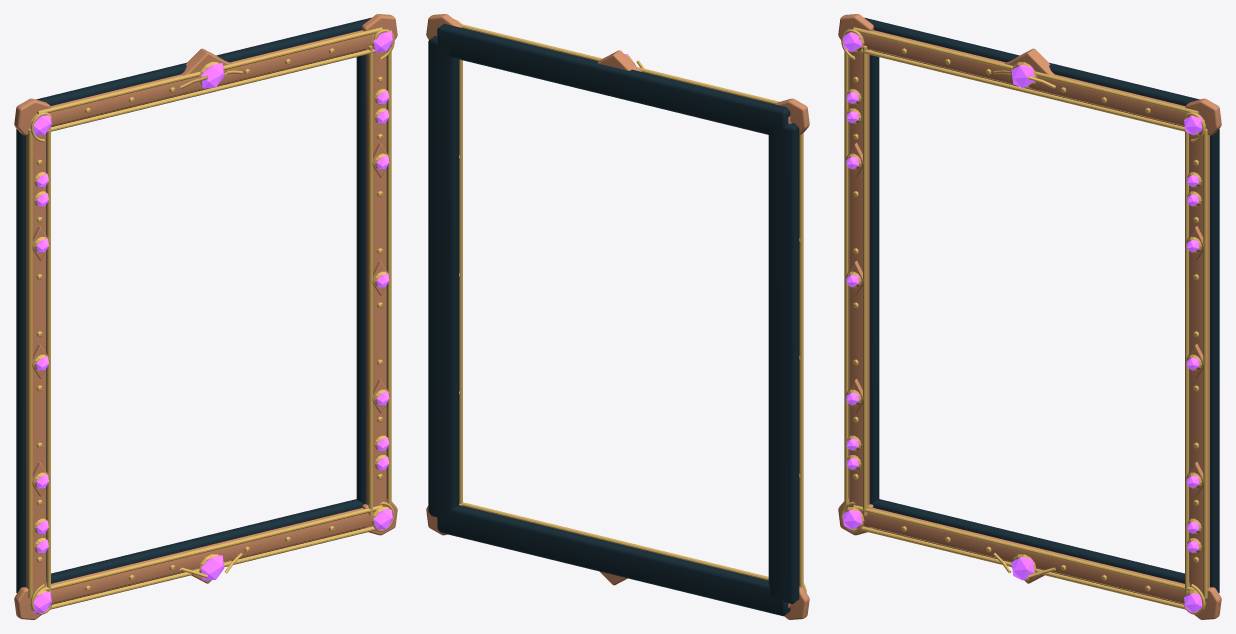
Rendered from card-epic.glb.
3 views of the same model, side by side, from view 1: azimuth 30°, elevation 25°; view 2: azimuth 150°, elevation 25°; view 3: azimuth 330°, elevation 25° (orthographic).
Parts seen in each view (by area): view 1: card-epic / Frame | burnished copper, card-epic / Frame | warm cathedral gold, card-epic / Frame | ink enamel recess, card-epic / Gem | imperial amethyst; view 2: card-epic / Frame | ink enamel recess, card-epic / Frame | warm cathedral gold, card-epic / Frame | burnished copper; view 3: card-epic / Frame | burnished copper, card-epic / Frame | warm cathedral gold, card-epic / Frame | ink enamel recess, card-epic / Gem | imperial amethyst.
Boxes of the visible parts, x1,y1,x2,y2 form: card-epic / Frame | burnished copper: (14,14,397,619); card-epic / Frame | warm cathedral gold: (28,27,394,614); card-epic / Frame | ink enamel recess: (16,17,387,604); card-epic / Gem | imperial amethyst: (33,30,392,613); card-epic / Frame | ink enamel recess: (428,23,799,616); card-epic / Frame | warm cathedral gold: (454,19,806,592); card-epic / Frame | burnished copper: (426,14,809,619); card-epic / Frame | burnished copper: (838,14,1221,619); card-epic / Frame | warm cathedral gold: (841,27,1207,614); card-epic / Frame | ink enamel recess: (848,17,1219,604); card-epic / Gem | imperial amethyst: (842,32,1202,613).
Size of the model in its own units: 6.61 by 8.82 by 0.5822.
